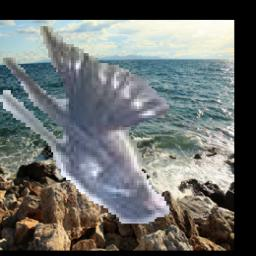Swallow: (0, 22, 173, 224)
